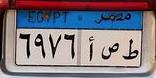6: (46, 33, 63, 59), (64, 32, 77, 59), (18, 35, 33, 58)
9: (34, 34, 45, 58)
Taa: (122, 38, 140, 61)
alif: (86, 34, 97, 62)
saad: (98, 42, 121, 60)
